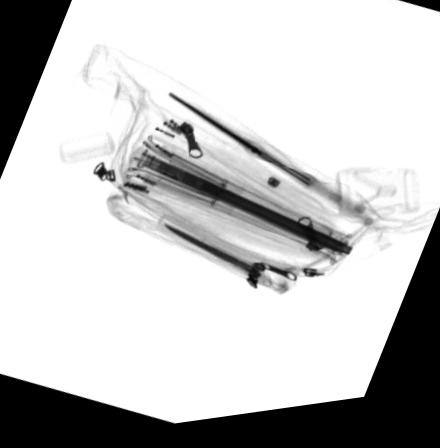Knife: (166, 97, 358, 224)
Scissors: (163, 228, 282, 298)
